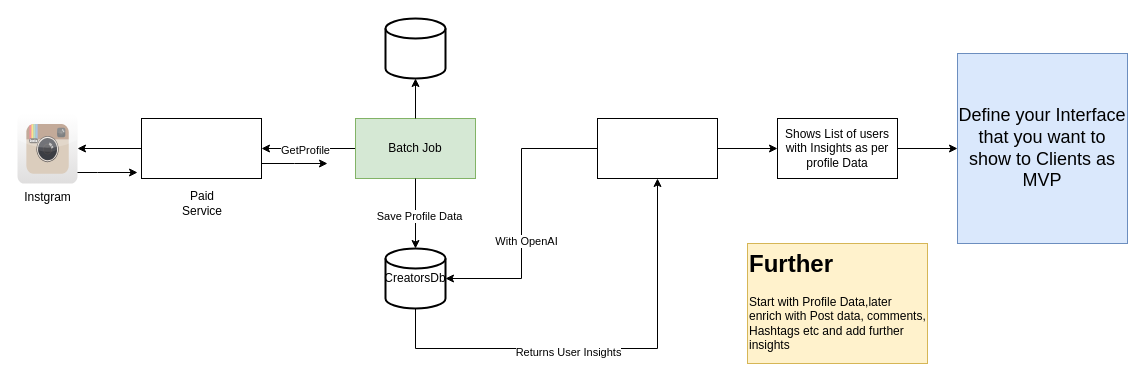
The diagram is 1145 pixels wide and 383 high, and some of its shapes have lost their labels. Each missing label, with the centre of its shape:
InsightAPI: (x=657, y=148)
Scrapper API: (x=201, y=148)
users Ids: (x=415, y=48)
